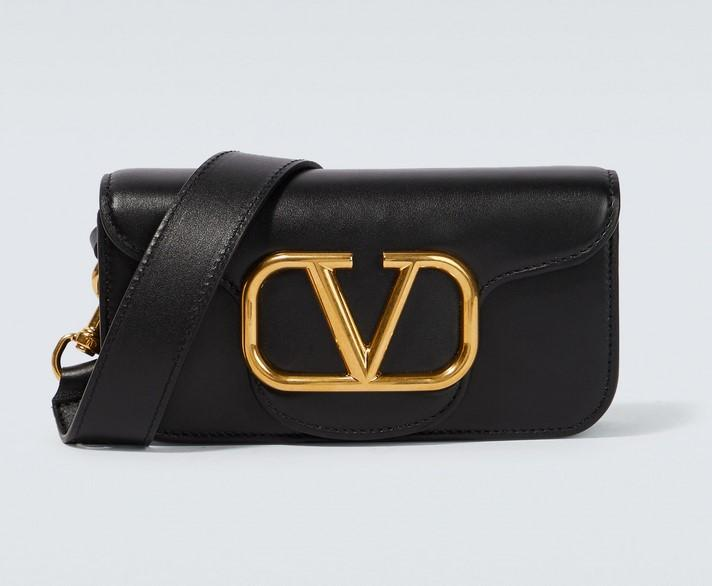VALENTINO: (241, 251, 479, 392)
